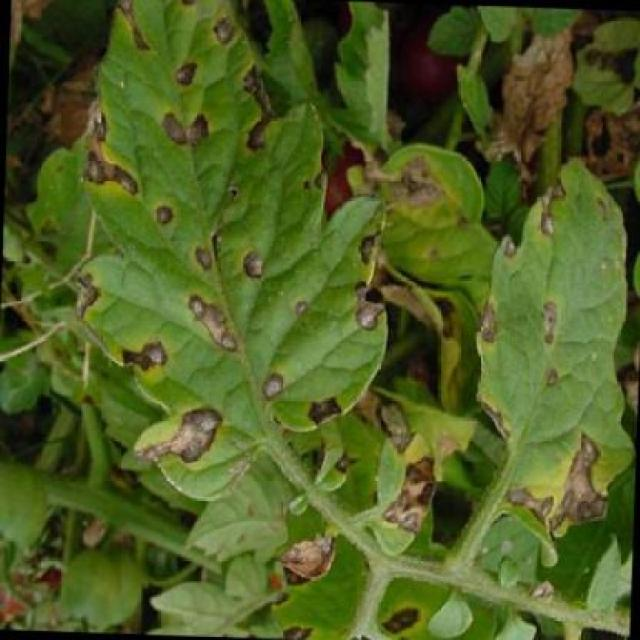Septoria leaf spot: (51, 0, 398, 529), (461, 145, 639, 572)
